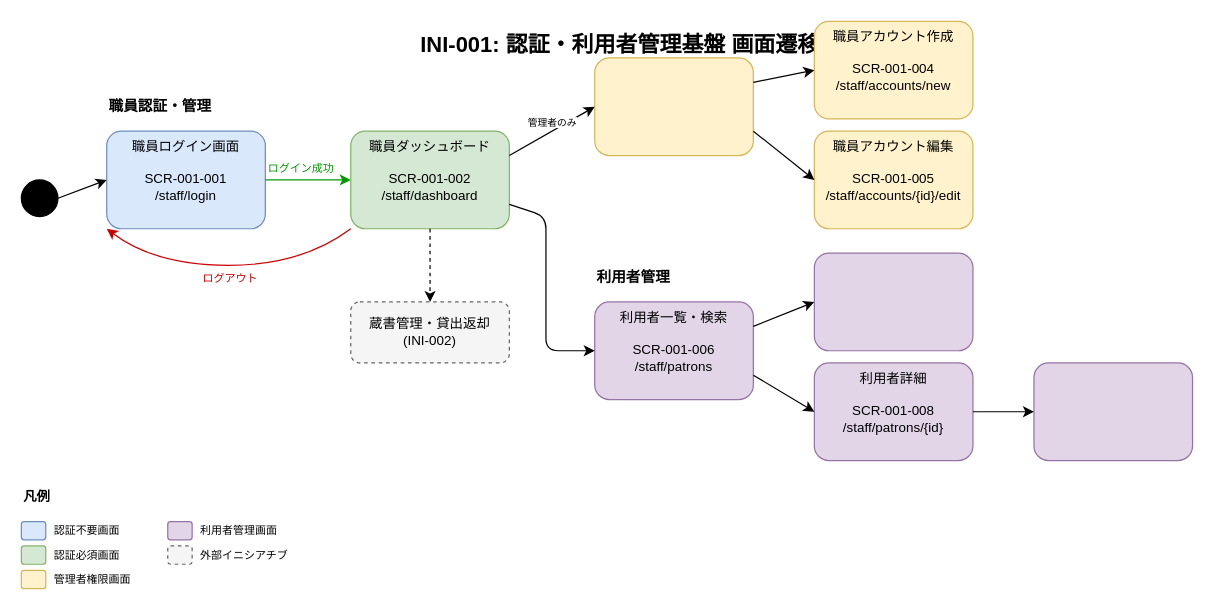
This 1214x610 diagram has some shape labels left out. Each missing label, with the box of its shape:
利用者登録 SCR-001-007 /staff/patrons/new: (813, 252, 973, 351)
利用者編集 SCR-001-009 /staff/patrons/{id}/edit: (1033, 362, 1193, 461)
職員アカウント一覧 SCR-001-003 /staff/accounts: (594, 57, 753, 156)
